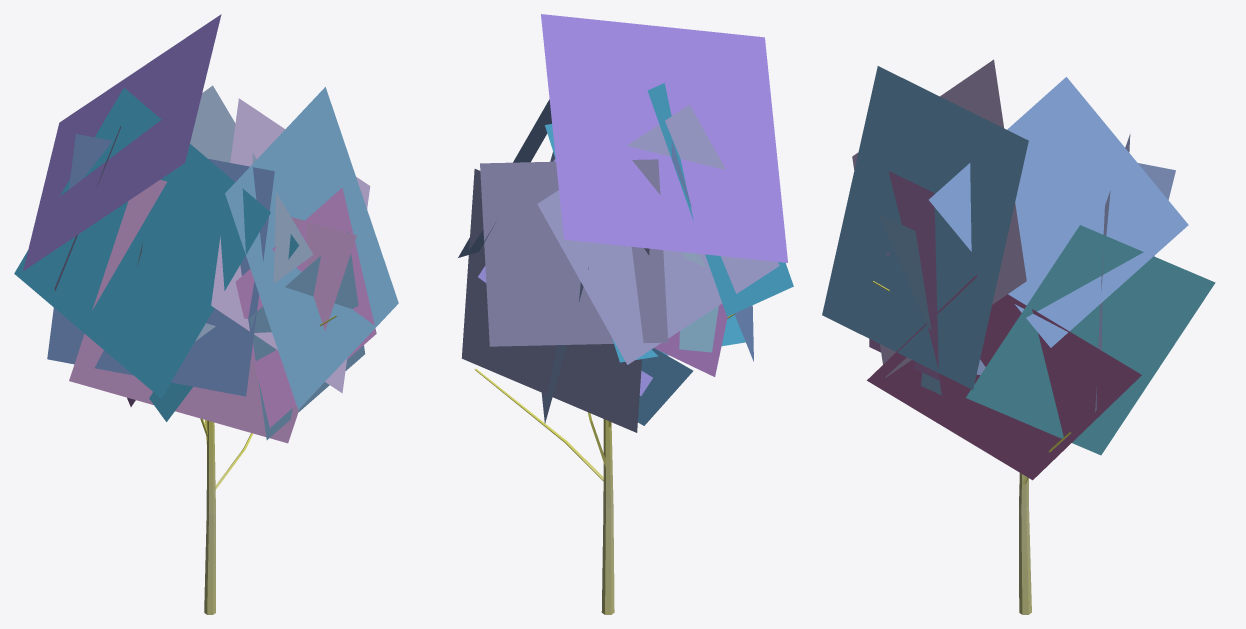
File: tree_birch_3.glb
The picture shows the model from 3 angles, left to right: view 1: azimuth 30°, elevation 25°; view 2: azimuth 150°, elevation 25°; view 3: azimuth 270°, elevation 25°; orthographic projection. The views are drawn at different scales.
Parts seen in each view (by area): view 1: tree_birch_3; view 2: tree_birch_3; view 3: tree_birch_3.
Boxes of the visible parts, x1,y1,x2,y2 form: tree_birch_3: (14,14,398,614); tree_birch_3: (458,14,793,614); tree_birch_3: (822,59,1215,614).
Bounding box in the file's own units: 7.8 × 12.44 × 7.54.
